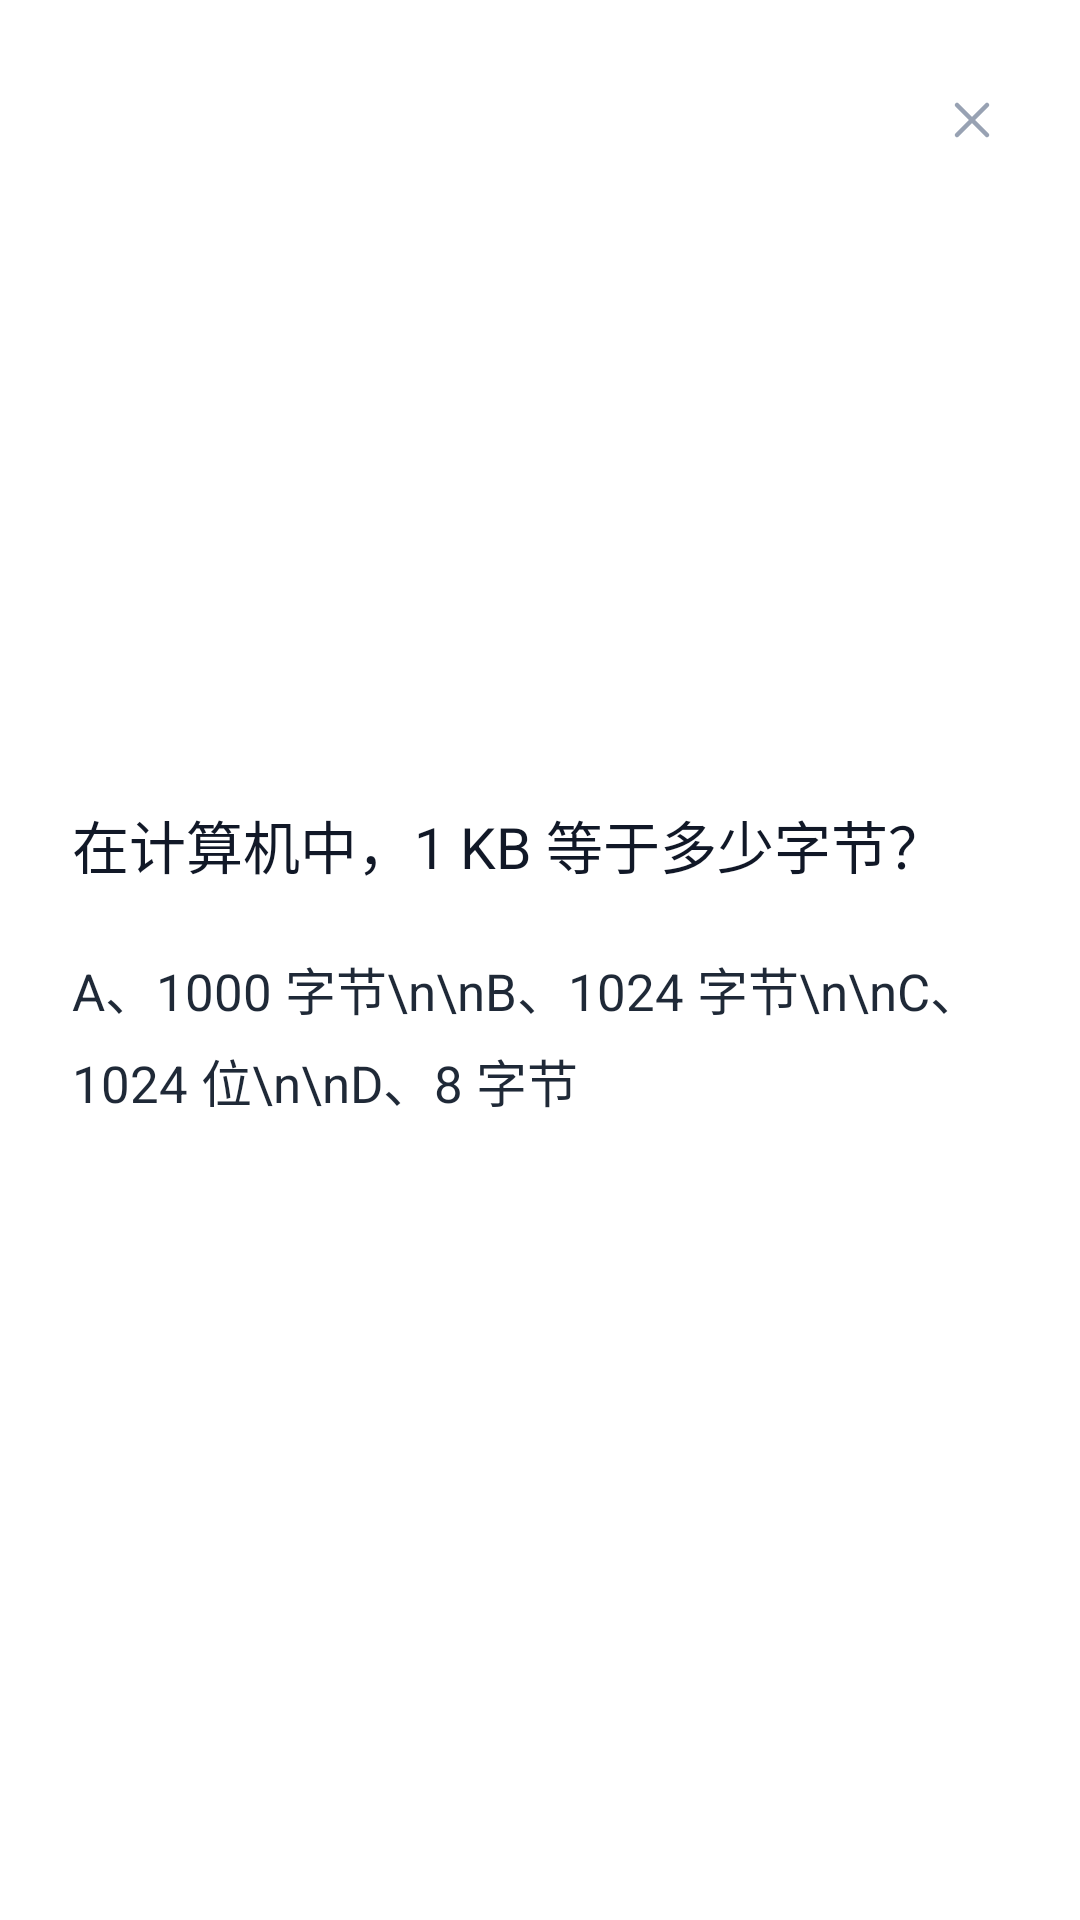

Icons on this 1080px x 1920px Android screen, each with its box as (x1, y1, x2, y2):
close: (955, 102, 989, 138)
